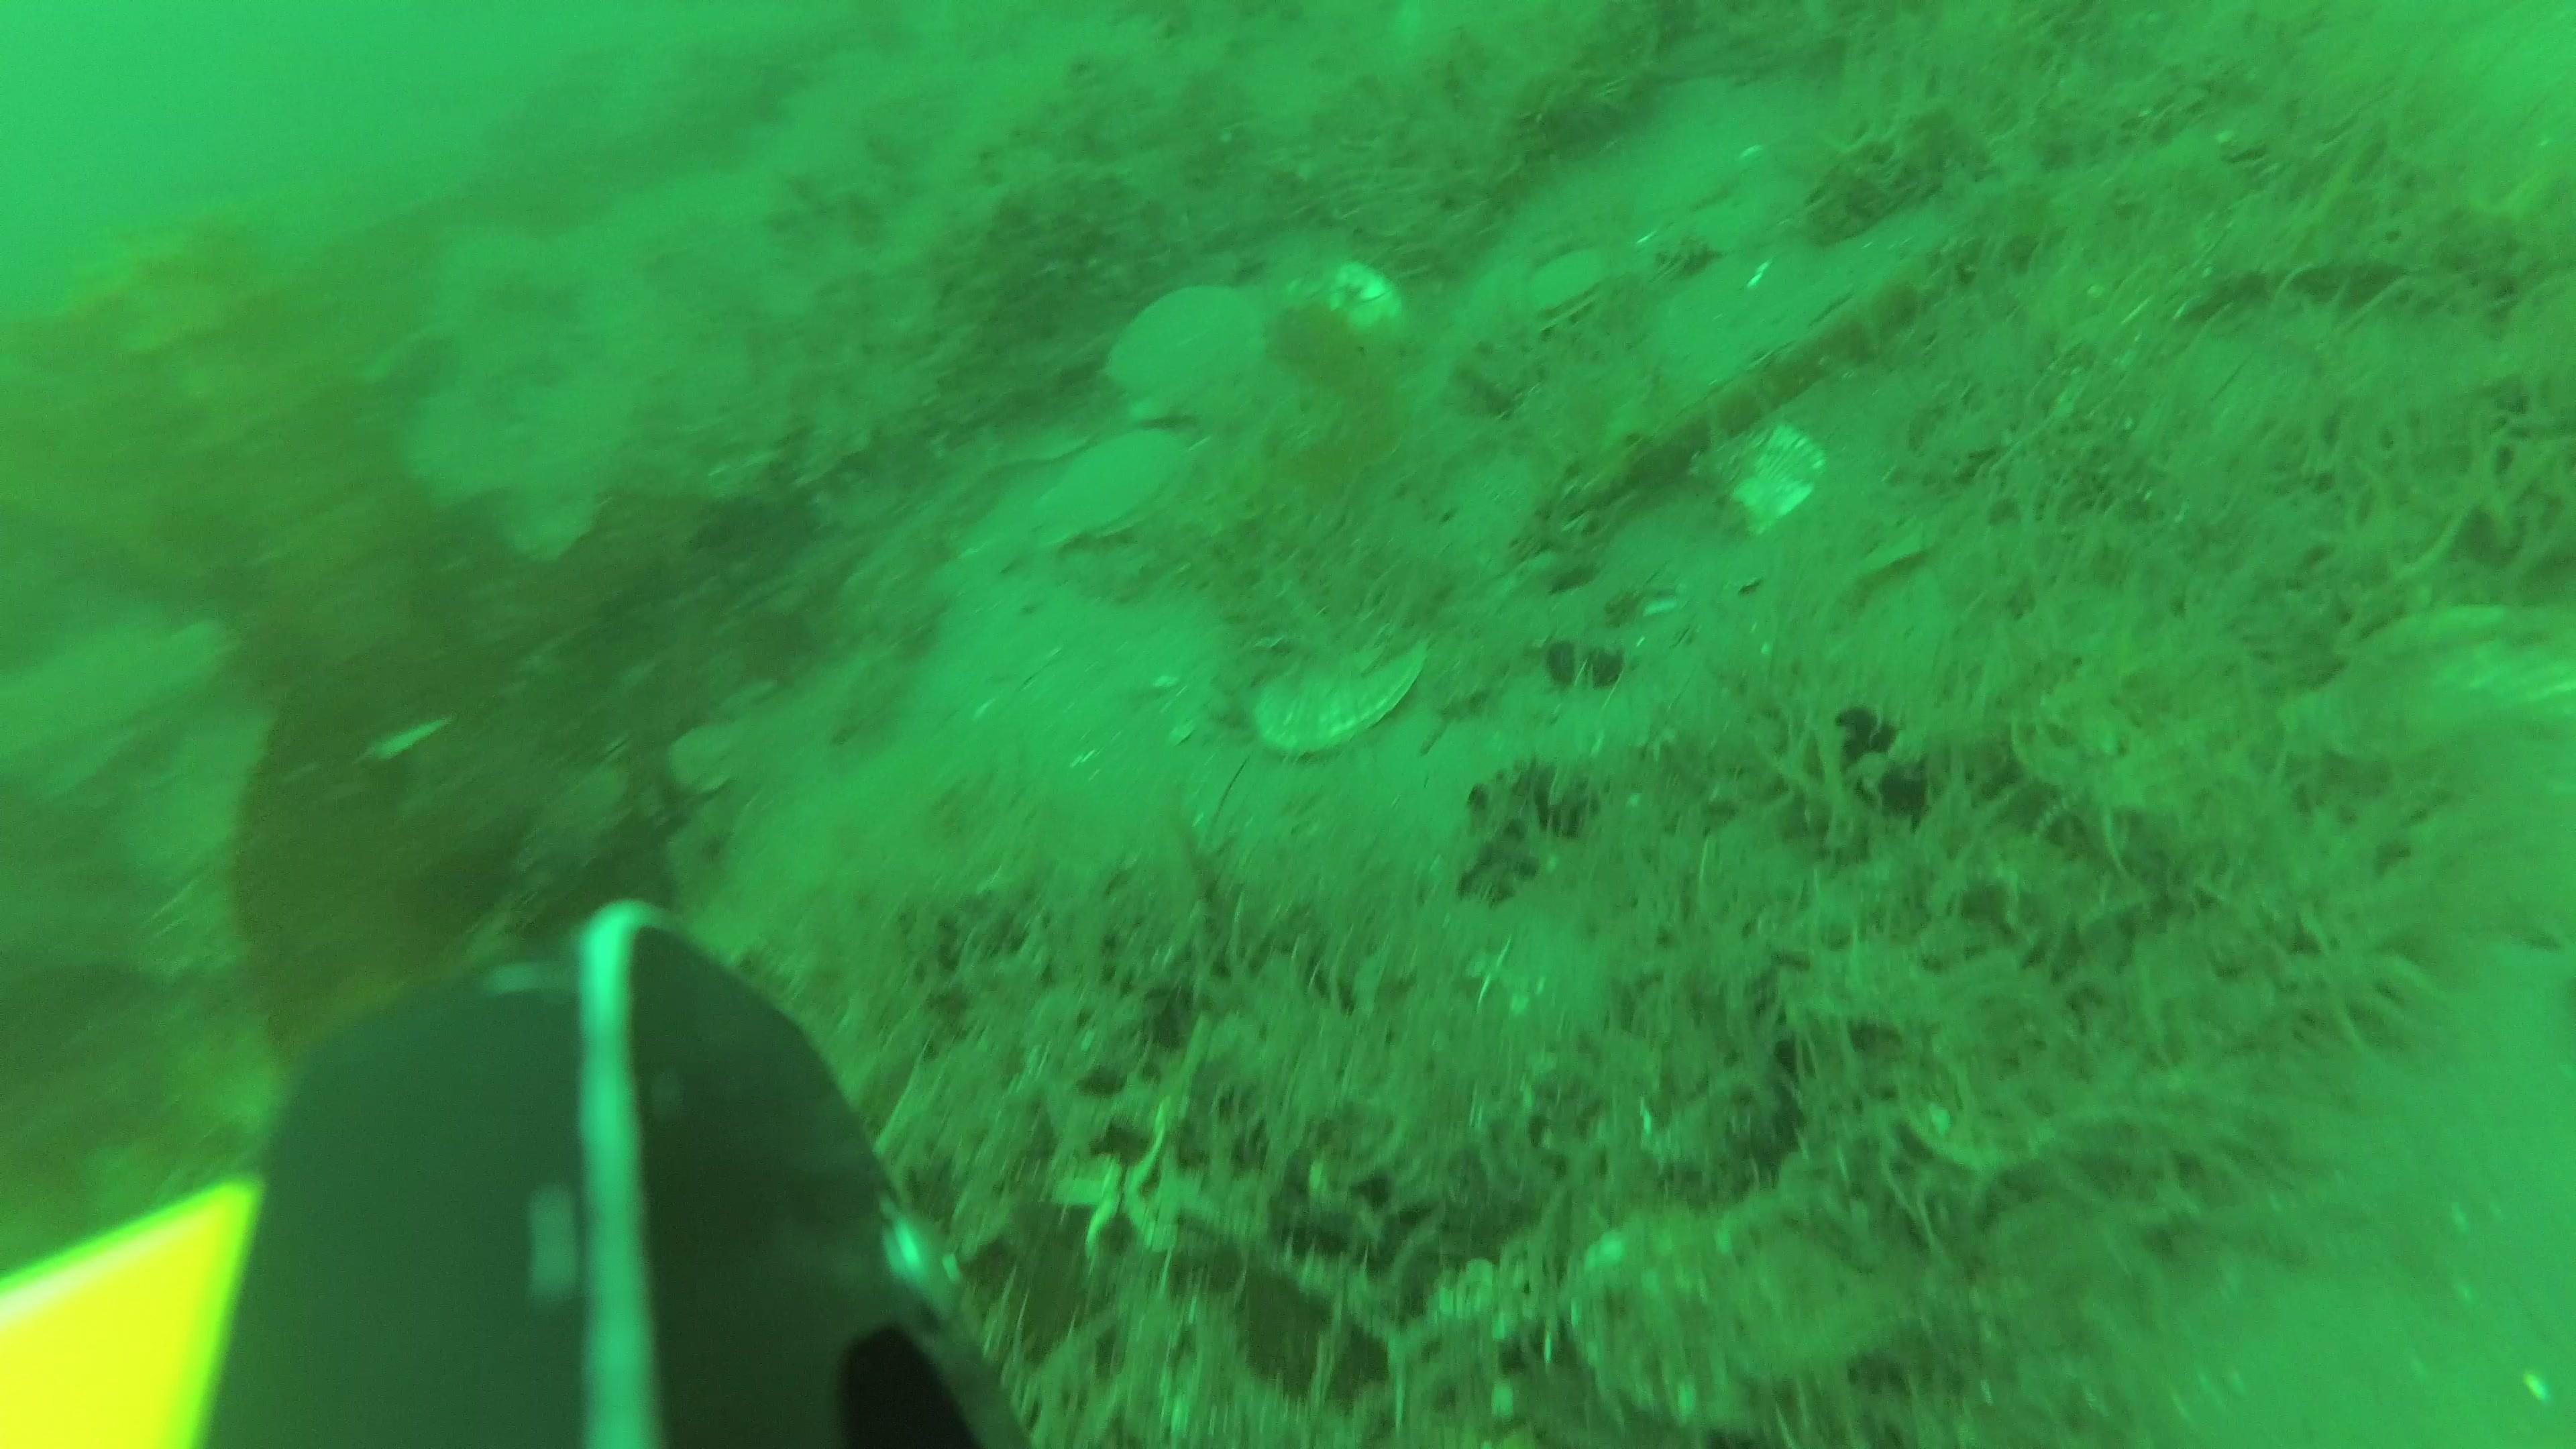scallop: (1113, 287, 1272, 426), (1265, 621, 1426, 747), (1016, 426, 1180, 548), (1691, 425, 1826, 525), (1306, 271, 1415, 352), (1514, 249, 1621, 329)
